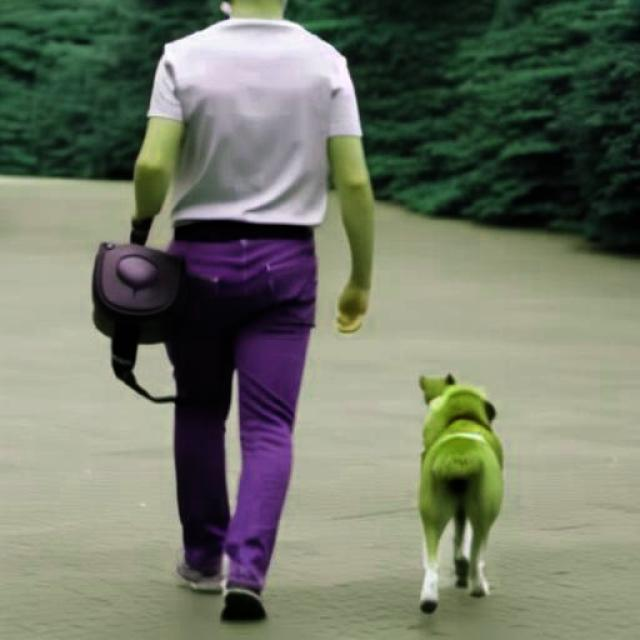Unleashed_Dog: (164, 343, 504, 620)
